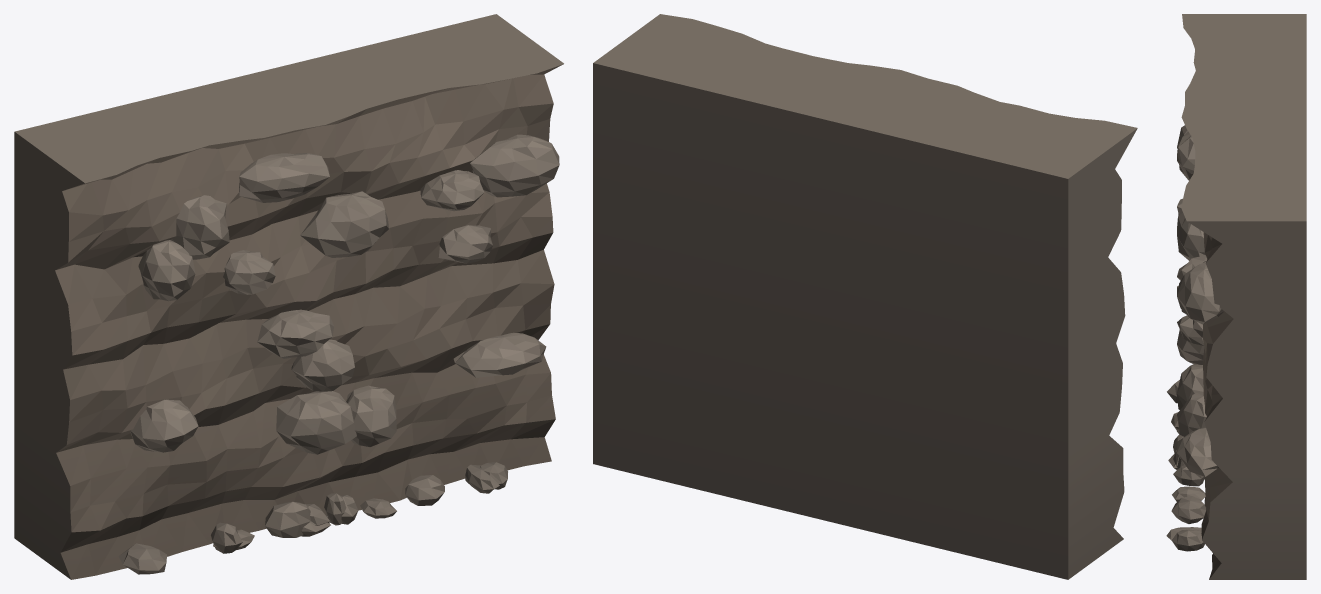
File: mine_wall_a.glb
3 renders of one model, left to right at view 1: azimuth 30°, elevation 25°; view 2: azimuth 150°, elevation 25°; view 3: azimuth 270°, elevation 25°, orthographic. The views are drawn at different scales.
Visible parts, largest first — view 1: mine_wall_a; view 2: mine_wall_a; view 3: mine_wall_a.
Boxes of the visible parts, <box> form: mine_wall_a: <box>14,14,563,579</box>; mine_wall_a: <box>593,14,1137,579</box>; mine_wall_a: <box>1166,14,1306,579</box>.
Bounding box in the file's own units: 6.25 × 5 × 1.77.
